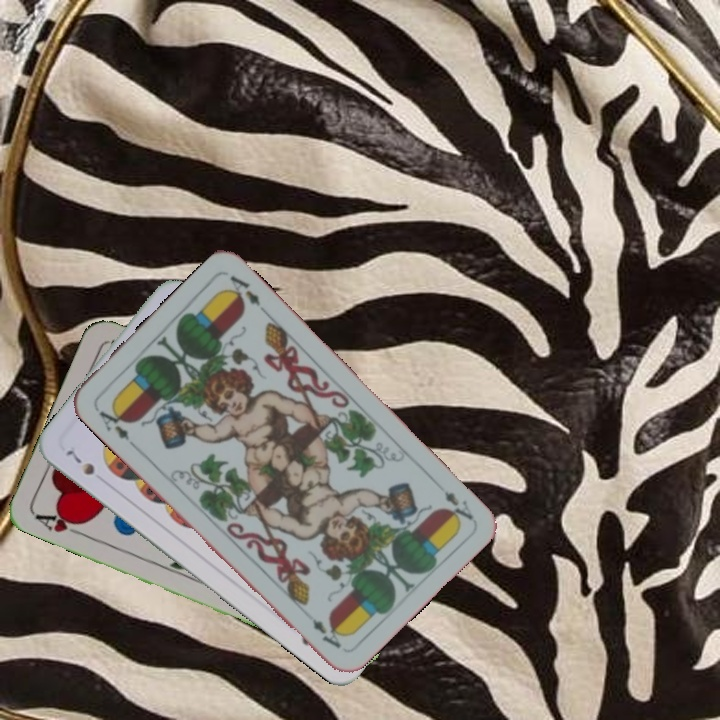EA: (91, 401, 138, 449), (440, 487, 476, 527)
HA: (31, 507, 88, 540)
S7: (61, 445, 98, 478)
